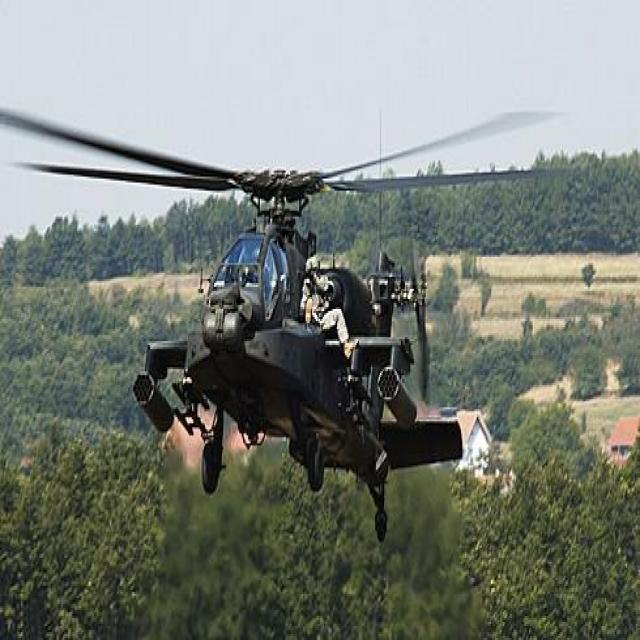MIL_HELO: (0, 88, 628, 558)
